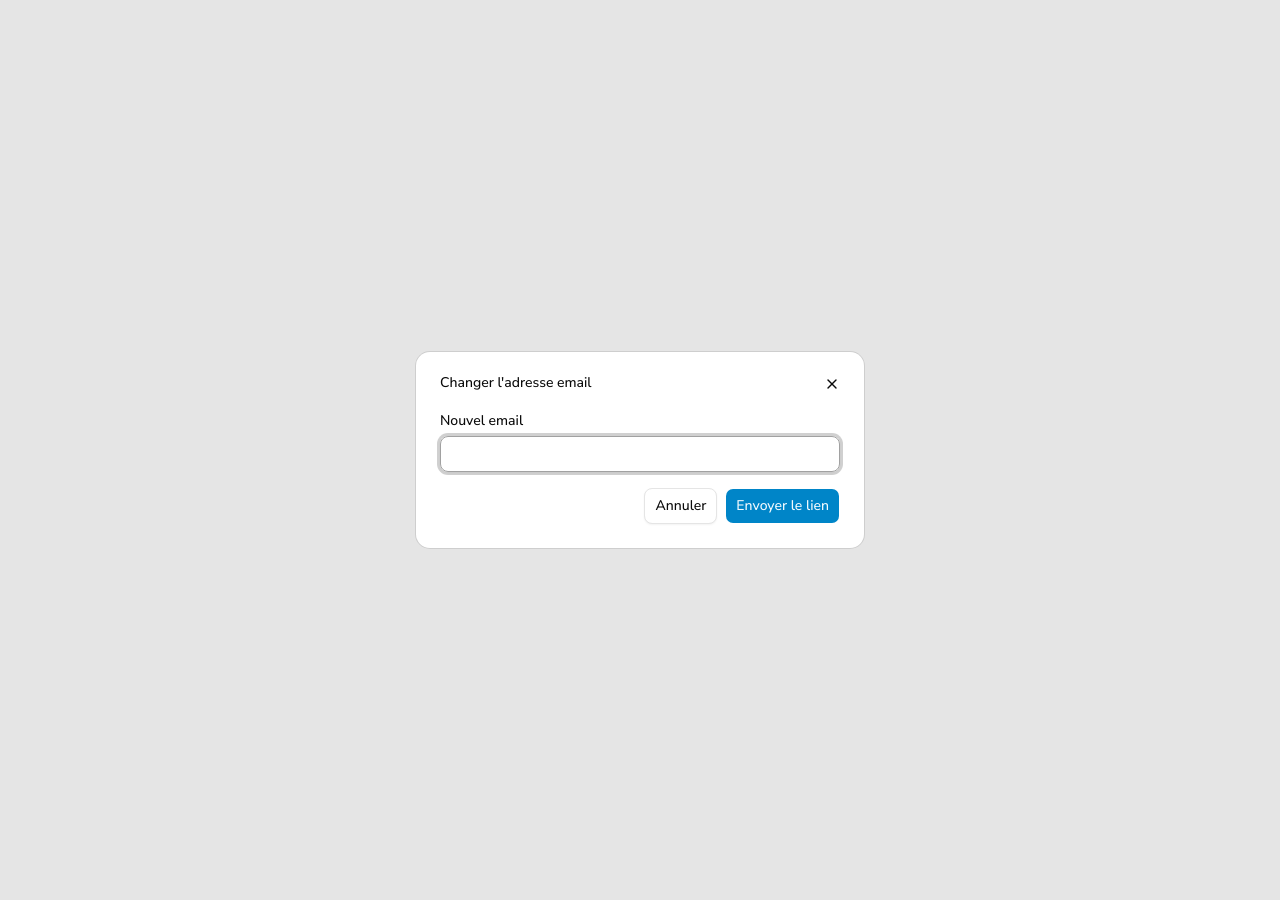
Scenario: EditEmailDialog › bloque un email invalide
This screenshot has width=1280, height=900.
Type "pasunemail" into the field labelled "Nouvel email" at (640,454), box [440, 436, 840, 472]
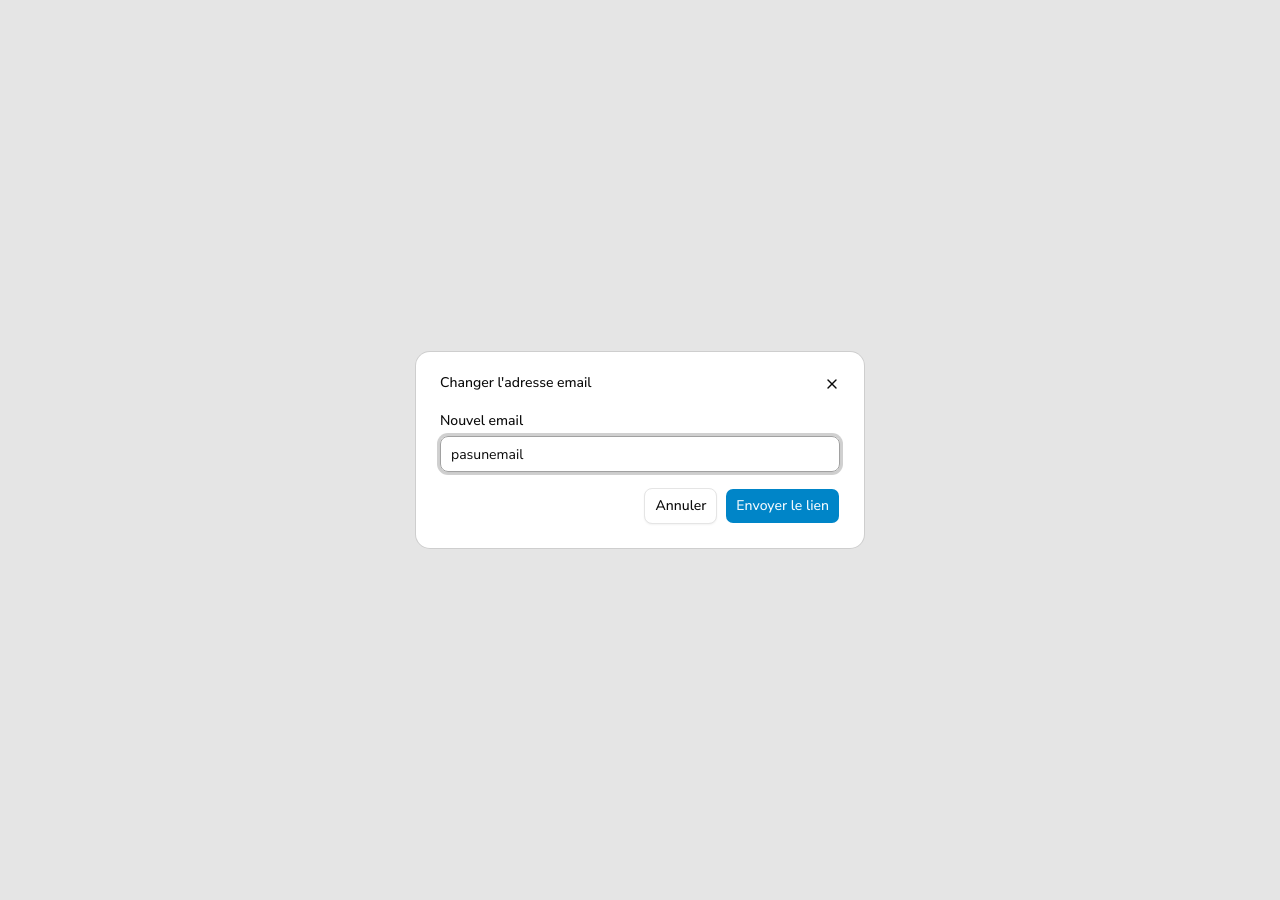
Click the button "Envoyer le lien" at (783,506), box [725, 488, 840, 524]
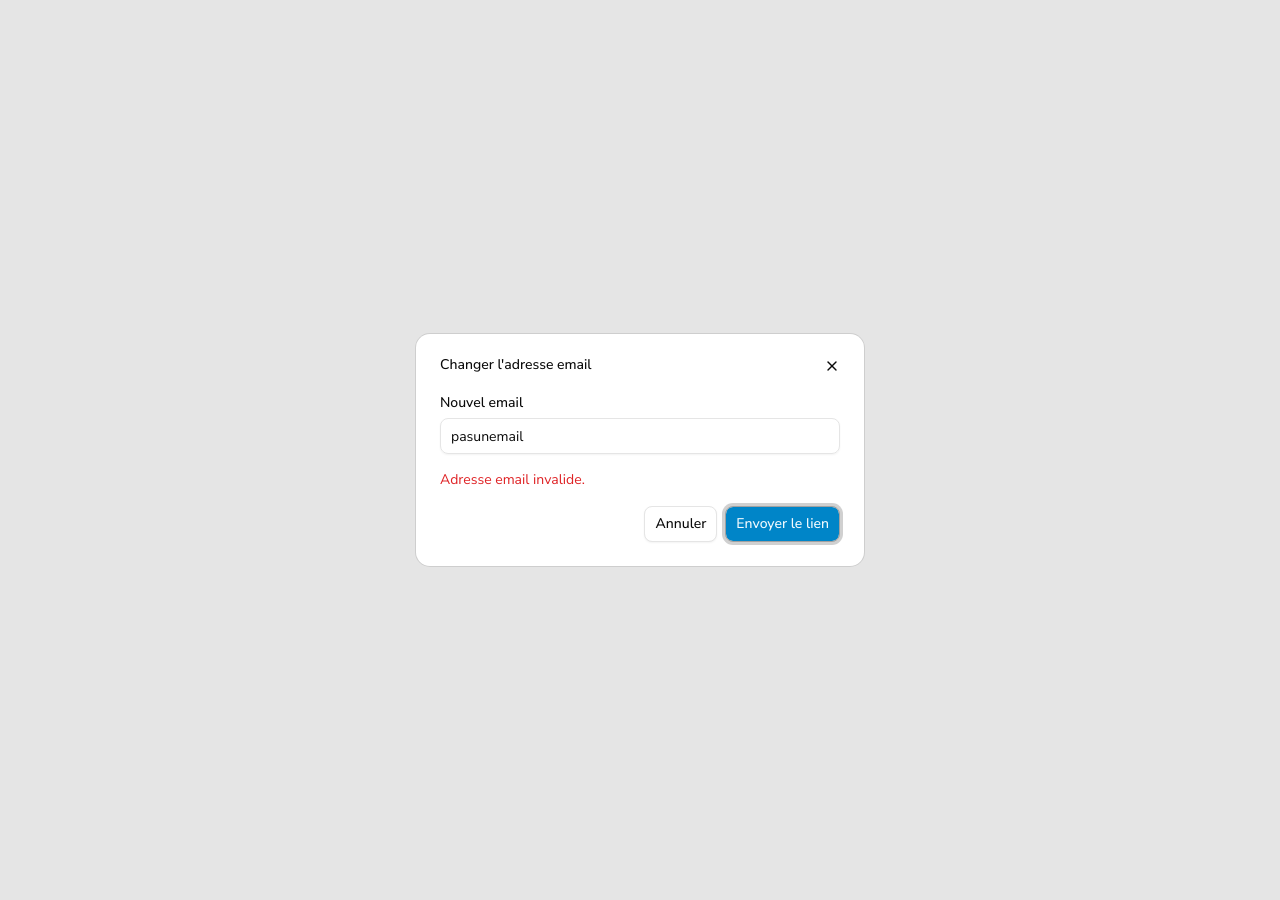
Check: the text "Adresse email invalide." is shown, box [440, 470, 585, 489]
